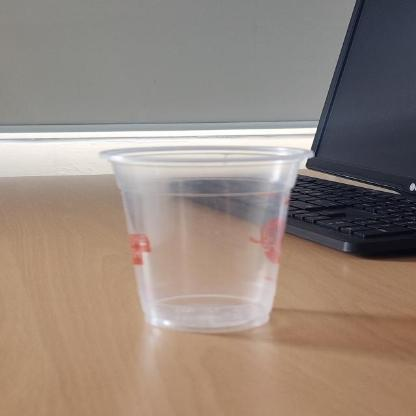Plastic Cup: (100, 144, 314, 334)
